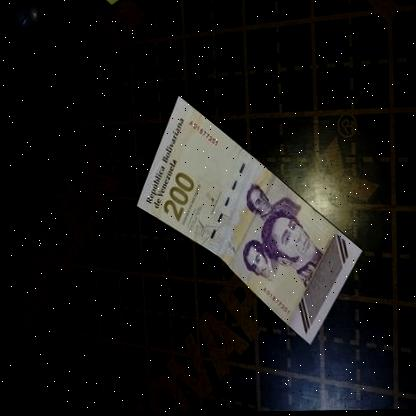two_hundred-front-vef: (129, 94, 364, 348)
